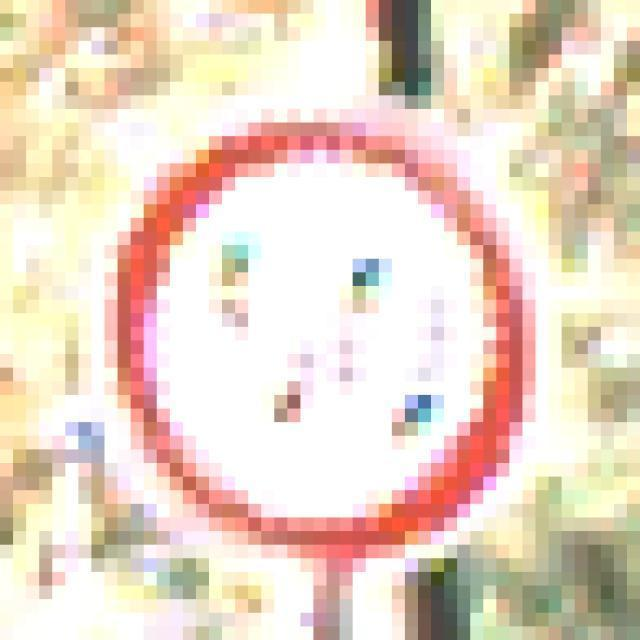Ograniczenie predkosci do 50: (106, 113, 536, 557)
